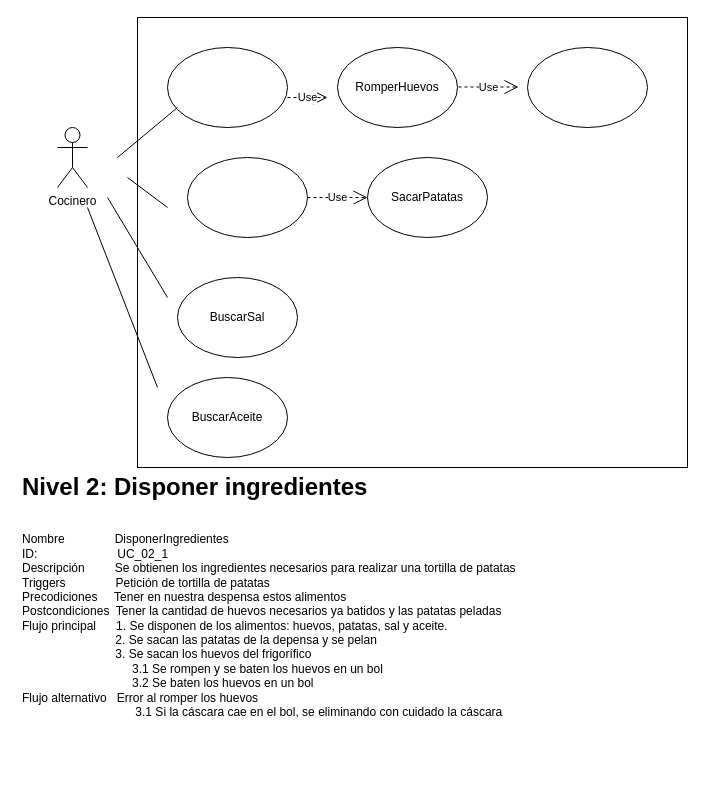
The diagram is 705 pixels wide and 805 high, and some of its shapes have lost their labels. Here are the shapes that lost their labels. From the top down, the box of each, then its label:
(166, 46, 288, 128): Batir Huevos
(526, 46, 648, 128): SacarHuevosFrigorífico
(186, 156, 308, 238): PelarPatatas
